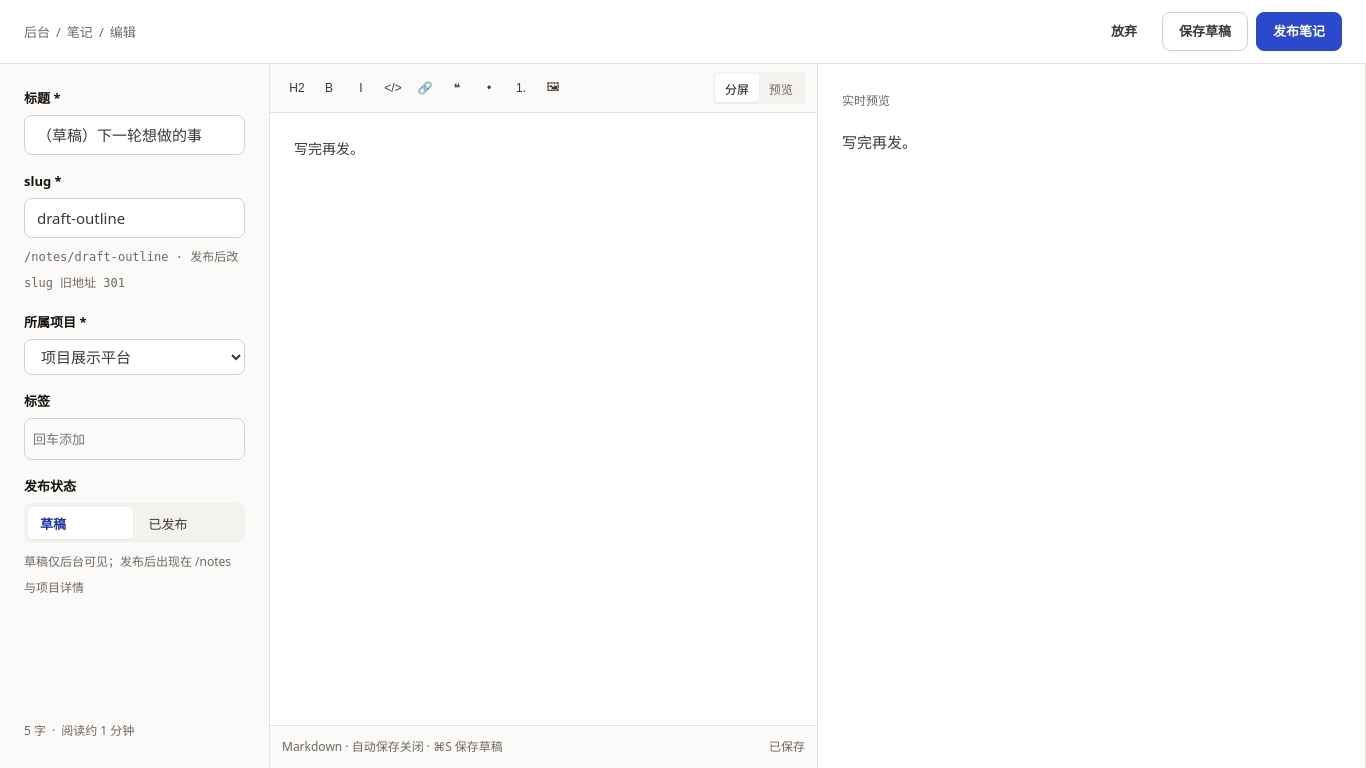
Test: NoteEditView › 保存草稿：PATCH 后脏标记消失、状态仍为草稿
This screenshot has width=1366, height=768.
Step 1. Replace the text in the field labelled "标题 *" with "草稿改名" → (134, 135), box [24,115,245,155]
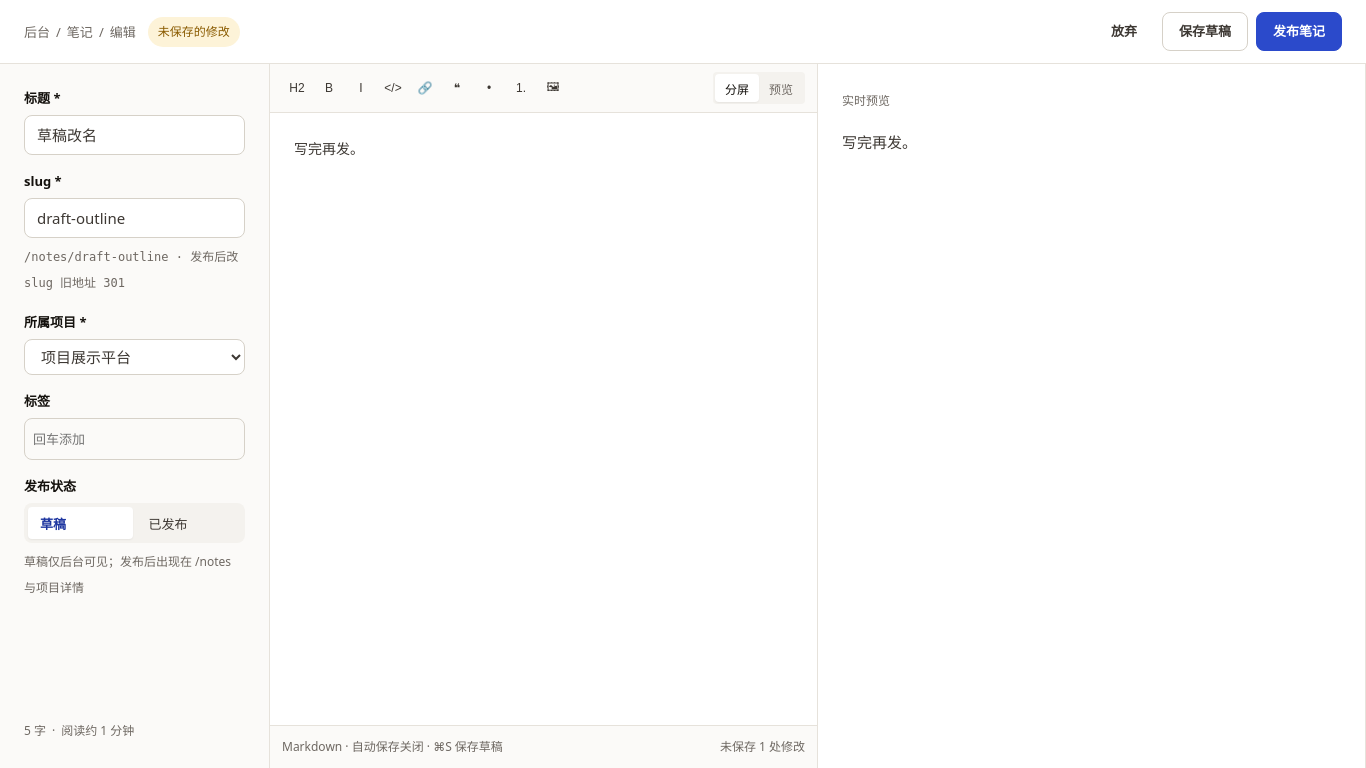
Step 2. Click the button "保存草稿" → (1205, 32), box [1162,12,1248,51]
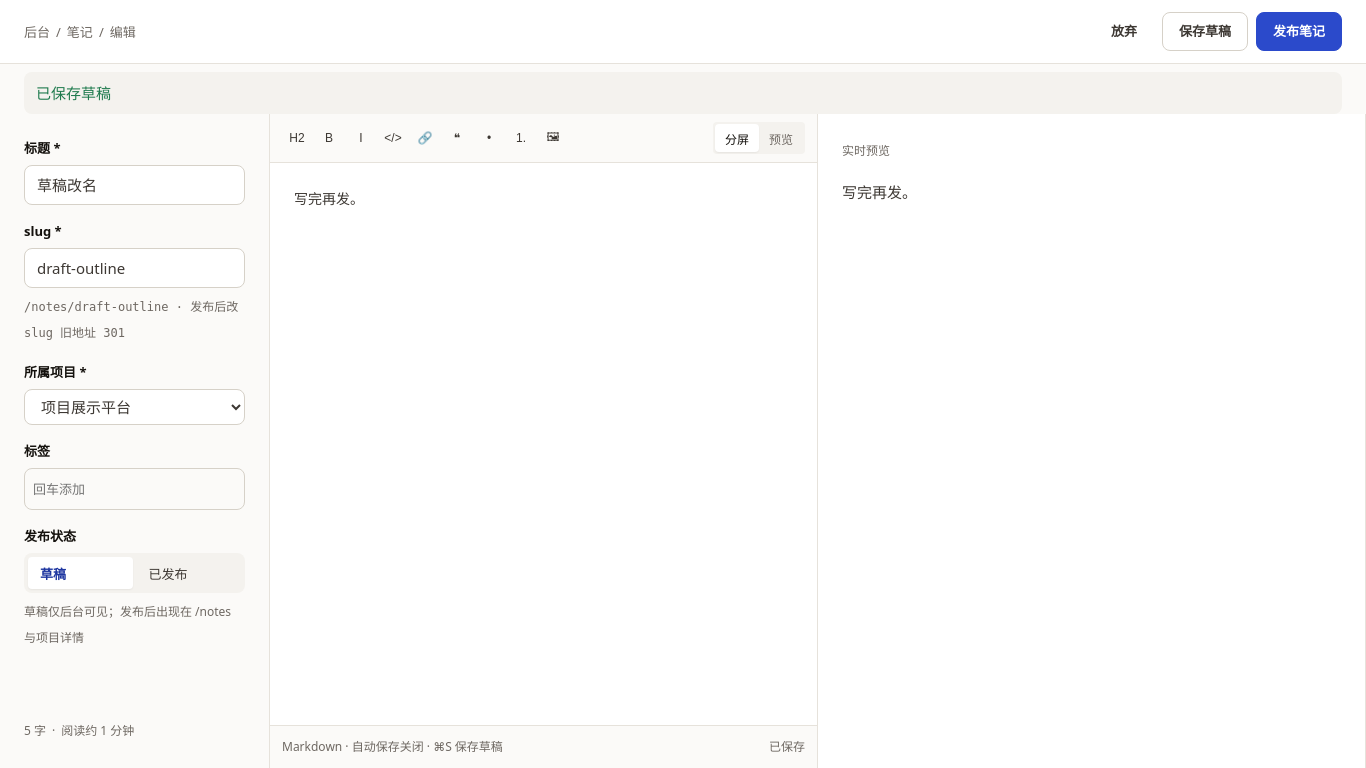
expect the message reads "已保存草稿": met, box [36,83,111,103]
expect the text "未保存的修改" is gone: met
